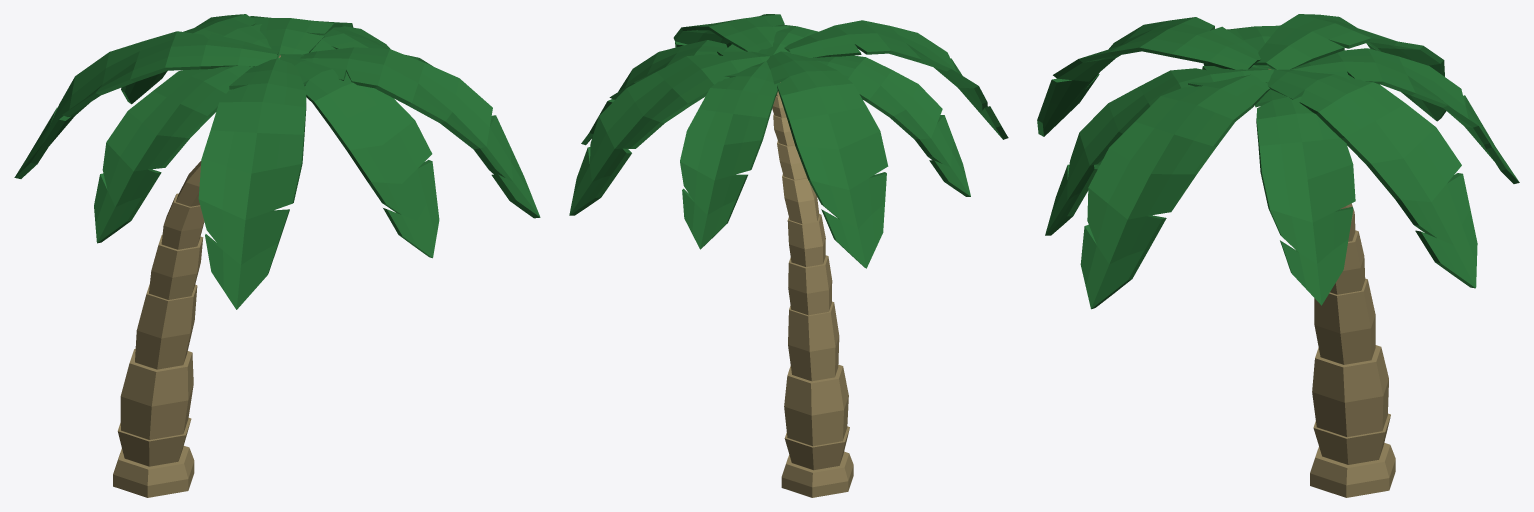
The model's file is tree-01.fbx.
The picture shows the model from 3 angles, left to right: view 1: azimuth 30°, elevation 25°; view 2: azimuth 150°, elevation 25°; view 3: azimuth 270°, elevation 25°; orthographic projection. The views are drawn at different scales.
Parts seen in each view (by area): view 1: tree-01; view 2: tree-01; view 3: tree-01.
Part boxes in pixels (left/top/right/bottom): tree-01: left=14, top=14, right=540, bottom=497; tree-01: left=569, top=14, right=1008, bottom=497; tree-01: left=1037, top=14, right=1519, bottom=497.
Size of the model in its own units: 157 by 166 by 157.
